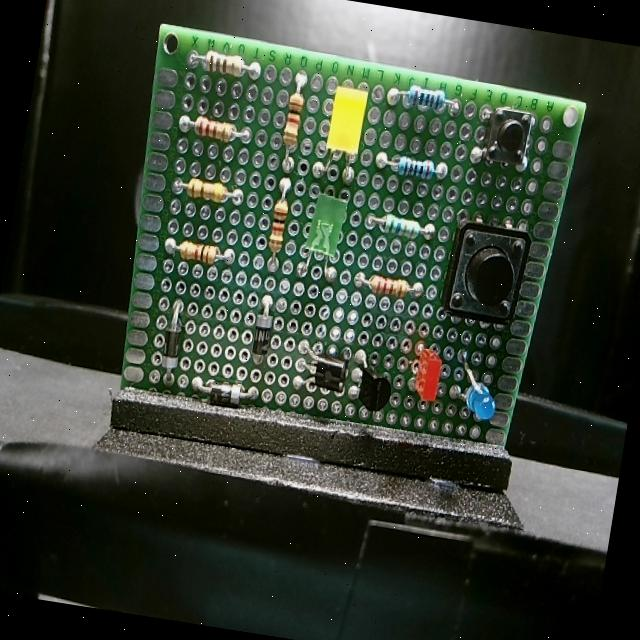diode: (246, 310, 275, 362), (158, 322, 186, 374), (203, 380, 247, 410)
led: (323, 80, 373, 160), (305, 188, 351, 263), (410, 344, 446, 406), (461, 376, 502, 426)
resistor: (172, 230, 228, 271), (278, 84, 306, 150), (265, 194, 294, 254), (404, 82, 452, 117), (184, 173, 231, 208), (380, 209, 426, 244), (191, 112, 240, 144), (392, 152, 440, 182), (202, 50, 247, 80), (368, 271, 413, 301)
switch: (439, 215, 534, 331), (479, 100, 536, 172)
transistor: (308, 347, 351, 400), (353, 364, 395, 416)
